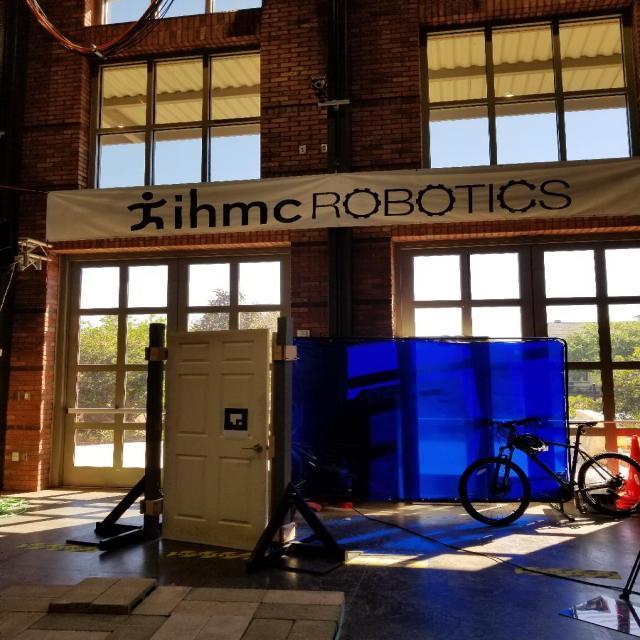door: (158, 326, 272, 553), (240, 440, 266, 455)
